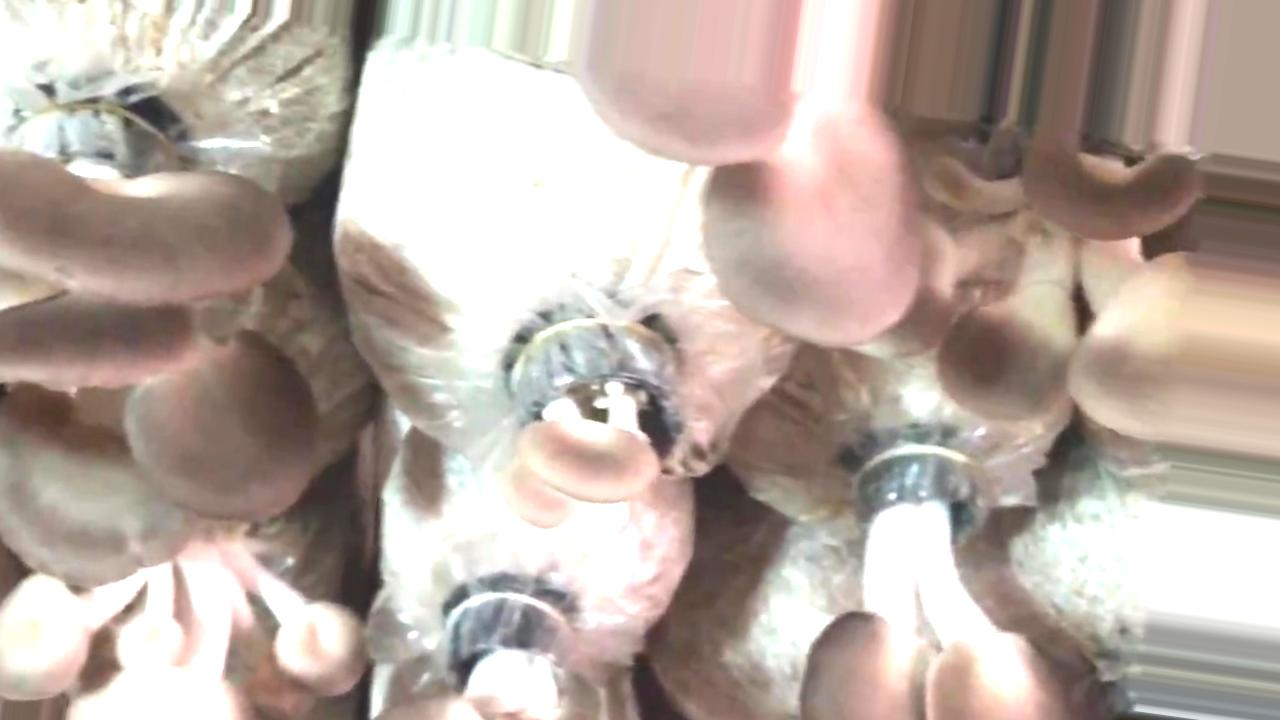nam: (575, 1, 1280, 455), (1, 106, 321, 585), (800, 453, 1064, 720), (1, 535, 363, 720), (517, 320, 696, 502)
